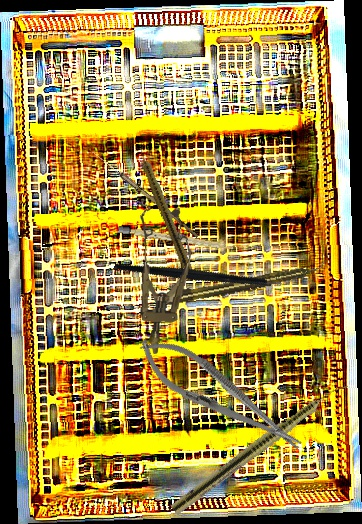Chopper: (112, 200, 300, 345)
Handpiece: (169, 376, 351, 518), (134, 144, 199, 282), (161, 260, 328, 308)
Needle Holder: (128, 325, 312, 466)
Scalpel Handle: (117, 225, 236, 252)
Speculum: (126, 202, 196, 357)
Surgical Spoon: (90, 150, 201, 238)
